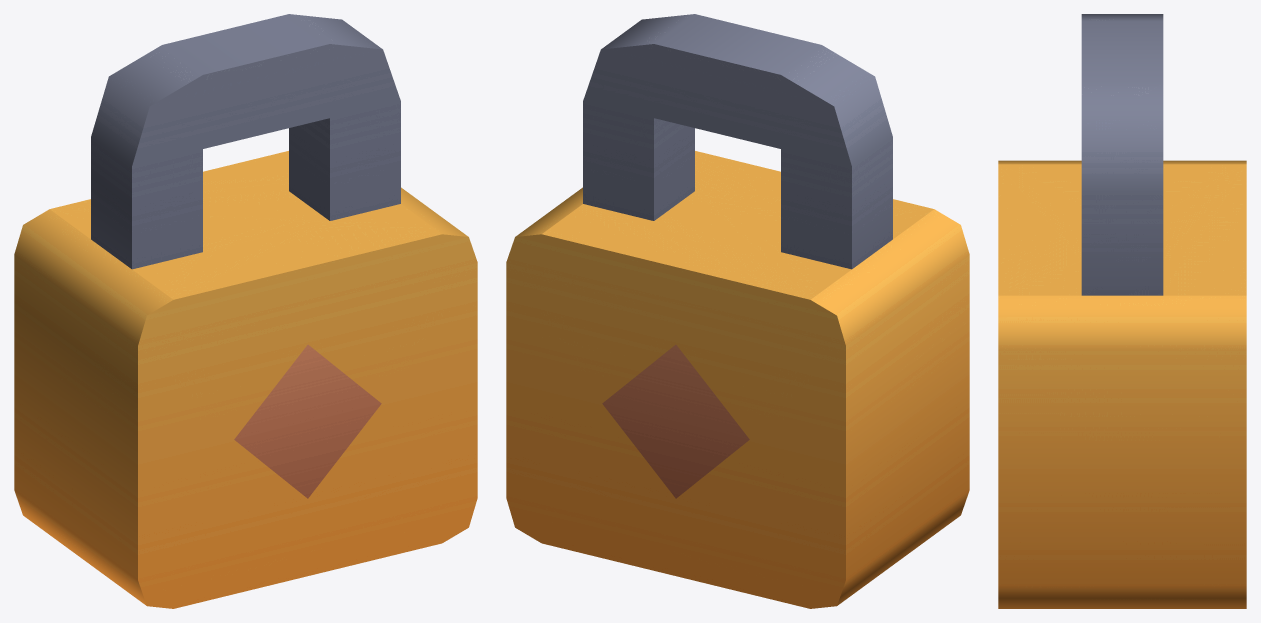
Rendered from lock.glb.
3 renders of one model, left to right at view 1: azimuth 30°, elevation 25°; view 2: azimuth 150°, elevation 25°; view 3: azimuth 270°, elevation 25°, orthographic.
Visible parts, largest first — view 1: lock; view 2: lock; view 3: lock.
Part boxes in pixels (left/top/right/bottom): lock: left=14, top=14, right=477, bottom=608; lock: left=506, top=14, right=969, bottom=608; lock: left=998, top=14, right=1246, bottom=608.
Size of the model in its own units: 0.2932 by 0.4012 by 0.1853.
1 material, 1 textured.
